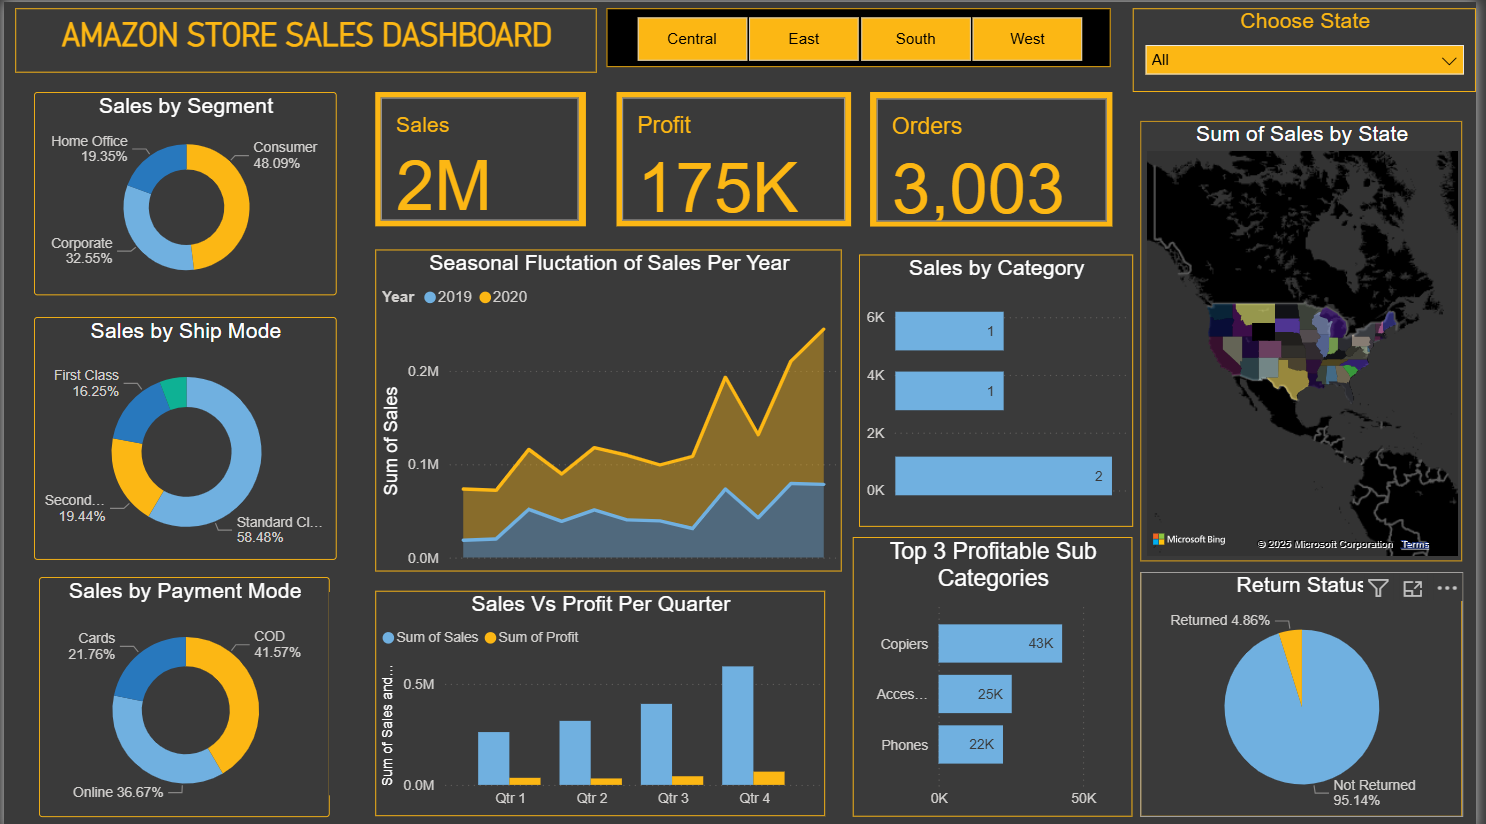

This screenshot's page, from the dashboard's own definition file:
{"tool":"powerbi","page":{"name":"Page 1","canvas":[1280,720],"ordinal":0},"visuals":[{"type":"donutChart","title":"Sales by Segment","fields":{"Category":["Amazon Store Sales Data xlsx - Sheet1 (1).Segment"],"Y":["Sum(Amazon Store Sales Data xlsx - Sheet1 (1).Sales)"]},"box":[25.7,78.6,262.9,177.1],"z":0},{"type":"donutChart","title":"Sales by Ship Mode","fields":{"Category":["Amazon Store Sales Data xlsx - Sheet1 (1).Ship Mode"],"Y":["CountNonNull(Amazon Store Sales Data xlsx - Sheet1 (1).Product ID)"]},"box":[25.7,274.3,262.9,211.4],"z":1000},{"type":"pieChart","title":"Return Status","fields":{"Category":["Amazon Store Sales Data xlsx - Sheet1 (1).return state"],"Y":["CountNonNull(Amazon Store Sales Data xlsx - Sheet1 (1).Order ID)"]},"box":[988.6,495.7,280,212.9],"z":2000},{"type":"donutChart","title":"Sales by Payment Mode","fields":{"Category":["Amazon Store Sales Data xlsx - Sheet1 (1).Payment Mode"],"Y":["CountNonNull(Amazon Store Sales Data xlsx - Sheet1 (1).Order ID)"]},"box":[30,500,252.9,208.6],"z":3000},{"type":"clusteredBarChart","title":"Sales by Category","fields":{"Category":["Amazon Store Sales Data xlsx - Sheet1 (1).Sales"],"Y":["CountNonNull(Amazon Store Sales Data xlsx - Sheet1 (1).Category)"]},"box":[743,219.3,238.1,236.6],"z":4000},{"type":"clusteredBarChart","title":"Top 3 Profitable Sub Categories","fields":{"Category":["Amazon Store Sales Data xlsx - Sheet1 (1).Sub-Category"],"Y":["Sum(Amazon Store Sales Data xlsx - Sheet1 (1).Profit)"]},"box":[738.6,465.7,242.9,242.9],"z":5000},{"type":"filledMap","title":"Sum of Sales by State","fields":{"Category":["Amazon Store Sales Data xlsx - Sheet1 (1).State"],"Series":["Amazon Store Sales Data xlsx - Sheet1 (1).Sales"]},"box":[988.6,102.9,280,382.9],"z":6000},{"type":"stackedAreaChart","title":"Seasonal Fluctation of Sales Per Year","fields":{"Y":["Sum(Amazon Store Sales Data xlsx - Sheet1 (1).Sales)"],"Series":["Amazon Store Sales Data xlsx - Sheet1 (1).Order Date.Variation.Date Hierarchy.Year"],"Category":["Amazon Store Sales Data xlsx - Sheet1 (1).Order Date.Variation.Date Hierarchy.Month"]},"box":[322.9,215.7,405.7,280],"z":7000},{"type":"slicer","fields":{"Values":["Amazon Store Sales Data xlsx - Sheet1 (1).Region"]},"box":[524.3,5.7,438.6,51.4],"z":8000},{"type":"slicer","title":"Choose State","fields":{"Values":["Amazon Store Sales Data xlsx - Sheet1 (1).State"]},"box":[981.4,5.7,298.6,72.9],"z":9000},{"type":"cardVisual","title":"Sales","fields":{"Data":["Sum(Amazon Store Sales Data xlsx - Sheet1 (1).Sales)"]},"box":[322.9,78.6,182.9,117.1],"z":10000},{"type":"cardVisual","title":"Sales","fields":{"Data":["Sum(Amazon Store Sales Data xlsx - Sheet1 (1).Profit)"]},"box":[532.9,78.6,204.3,117.1],"z":11000},{"type":"cardVisual","title":"Sales","fields":{"Data":["Count(Amazon Store Sales Data xlsx - Sheet1 (1).Order ID)"]},"box":[752.9,78.6,210,117.1],"z":12000},{"type":"textbox","box":[283,513,406,177],"z":13000},{"type":"textbox","box":[10,5.7,505.7,55.7],"z":14000},{"type":"clusteredColumnChart","title":" Sales Vs Profit Per Quarter","fields":{"Category":["Amazon Store Sales Data xlsx - Sheet1 (1).Order Date.Variation.Date Hierarchy.Quarter"],"Y":["Sum(Amazon Store Sales Data xlsx - Sheet1 (1).Sales)","Sum(Amazon Store Sales Data xlsx - Sheet1 (1).Profit)"]},"box":[323.2,512.2,391,196.2],"z":15000}]}

Visuals, with their boxes in screenshot pixels (x1, y1, x2, y2), scaled from the page's 1280x720 canvas onto the 1486x824 screenshot:
"Sales by Segment" donutChart: bbox=[30, 90, 335, 293]
"Sales by Ship Mode" donutChart: bbox=[30, 314, 335, 556]
"Return Status" pieChart: bbox=[1148, 567, 1473, 811]
"Sales by Payment Mode" donutChart: bbox=[35, 572, 328, 811]
"Sales by Category" clusteredBarChart: bbox=[863, 251, 1139, 522]
"Top 3 Profitable Sub Categories" clusteredBarChart: bbox=[857, 533, 1139, 811]
"Sum of Sales by State" filledMap: bbox=[1148, 118, 1473, 556]
"Seasonal Fluctation of Sales Per Year" stackedAreaChart: bbox=[375, 247, 846, 567]
slicer - Amazon Store Sales Data xlsx - Sheet1 (1).Region: bbox=[609, 7, 1118, 65]
"Choose State" slicer: bbox=[1139, 7, 1485, 90]
"Sales" cardVisual: bbox=[375, 90, 587, 224]
"Sales" cardVisual: bbox=[619, 90, 856, 224]
"Sales" cardVisual: bbox=[874, 90, 1118, 224]
textbox: bbox=[329, 587, 800, 790]
textbox: bbox=[12, 7, 599, 70]
" Sales Vs Profit Per Quarter" clusteredColumnChart: bbox=[375, 586, 829, 811]
